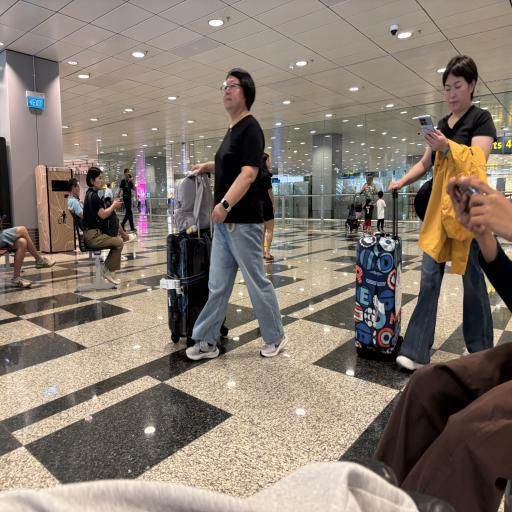person_with_luggage_left: (333, 43, 512, 405), (154, 36, 314, 372)
